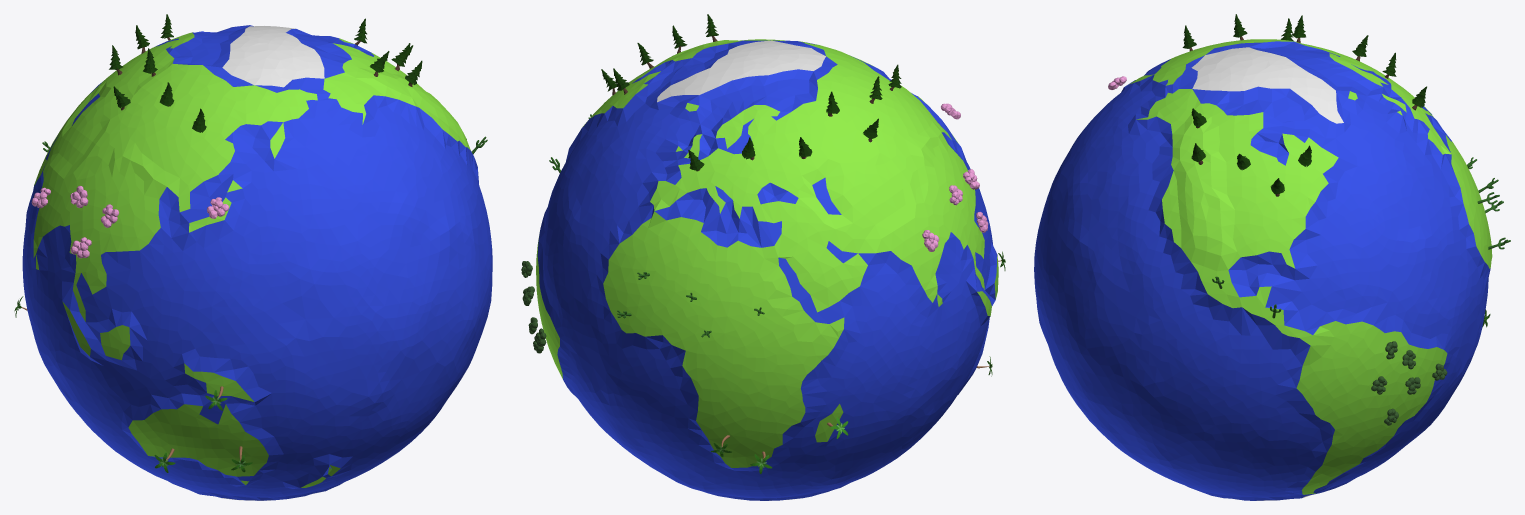
Rendered from earth.gltf.
3 views of the same model, side by side, from view 1: azimuth 30°, elevation 25°; view 2: azimuth 150°, elevation 25°; view 3: azimuth 270°, elevation 25° (orthographic). The views are drawn at different scales.
Parts seen in each view (by area): view 1: Icosphere; view 2: Icosphere; view 3: Icosphere.
Boxes of the visible parts, bbox=[...] form: Icosphere: bbox=[22, 25, 492, 500]; Icosphere: bbox=[536, 39, 998, 500]; Icosphere: bbox=[1034, 39, 1492, 500].
Bounding box in the file's own units: 7.95 × 7.83 × 8.01.
